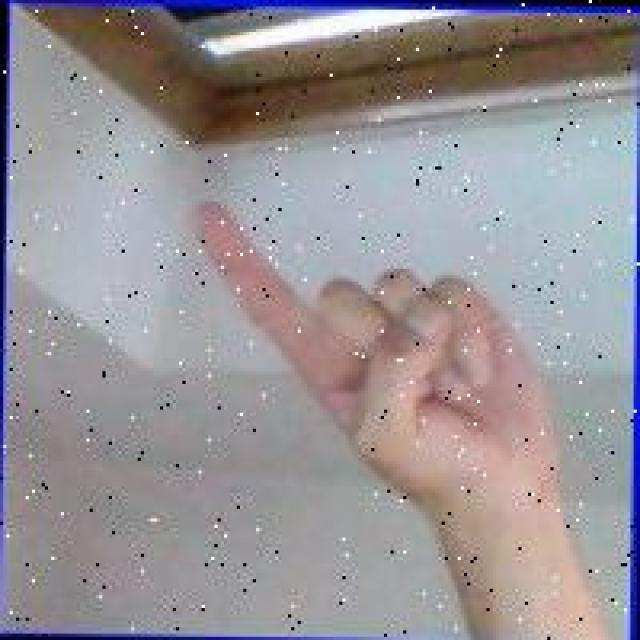Z: (181, 194, 558, 523)
